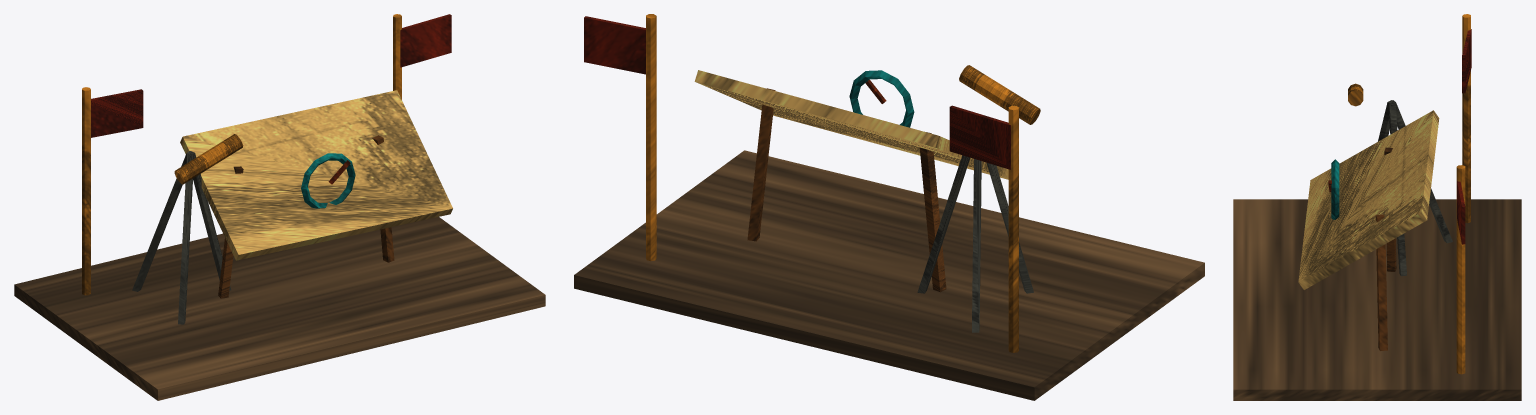
File: south-grade-charting-post.glb
3 renders of one model, left to right at view 1: azimuth 30°, elevation 25°; view 2: azimuth 150°, elevation 25°; view 3: azimuth 270°, elevation 25°, orthographic. The views are drawn at different scales.
Visible parts, largest first — view 1: south-grade-charting-post; view 2: south-grade-charting-post; view 3: south-grade-charting-post.
Boxes of the visible parts, bbox=[...] form: south-grade-charting-post: bbox=[14, 14, 545, 400]; south-grade-charting-post: bbox=[574, 14, 1204, 400]; south-grade-charting-post: bbox=[1233, 14, 1521, 400].
Bounding box in the file's own units: 8.2 × 4.15 × 5.
1 material, 1 textured.
